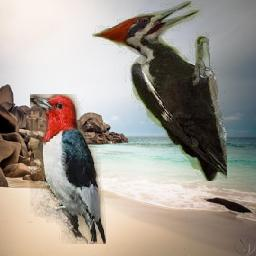Woodpecker: (93, 1, 228, 181), (30, 94, 106, 244)
